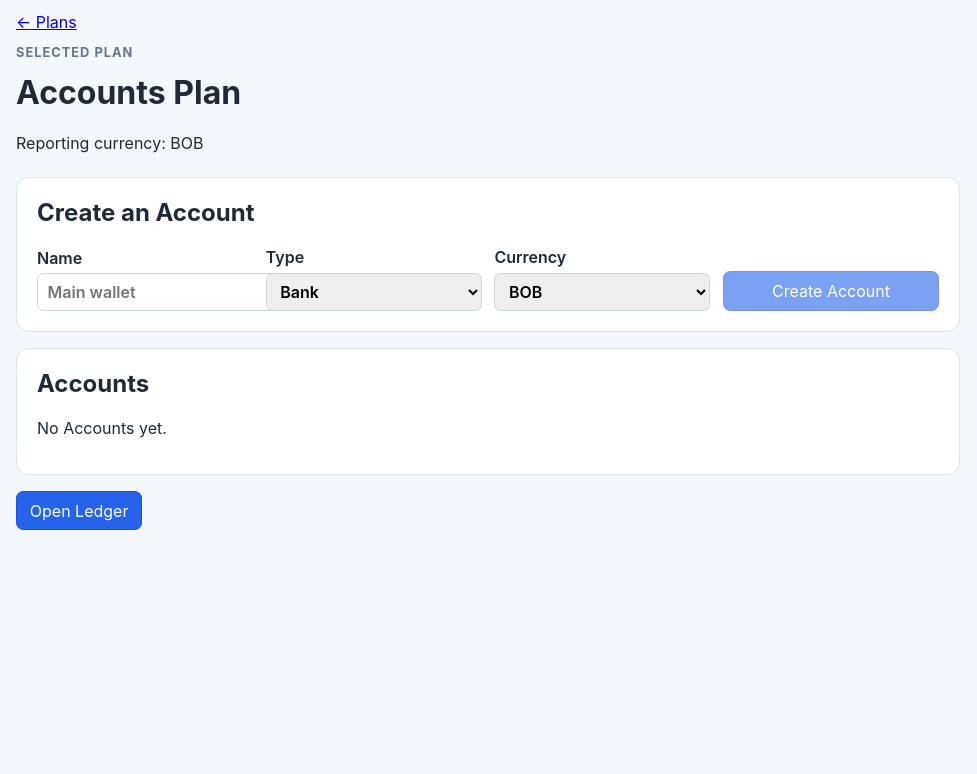
Test: minimal authoritative client flows › creates, renames, archives, and refetches Accounts with exact balances
Expected: the heading "Accounts" is shown, left=37, top=369, right=149, bottom=398
Step 1. Type "USDT wallet" into the field labelled "Name" → (174, 292), box left=37, top=273, right=311, bottom=311
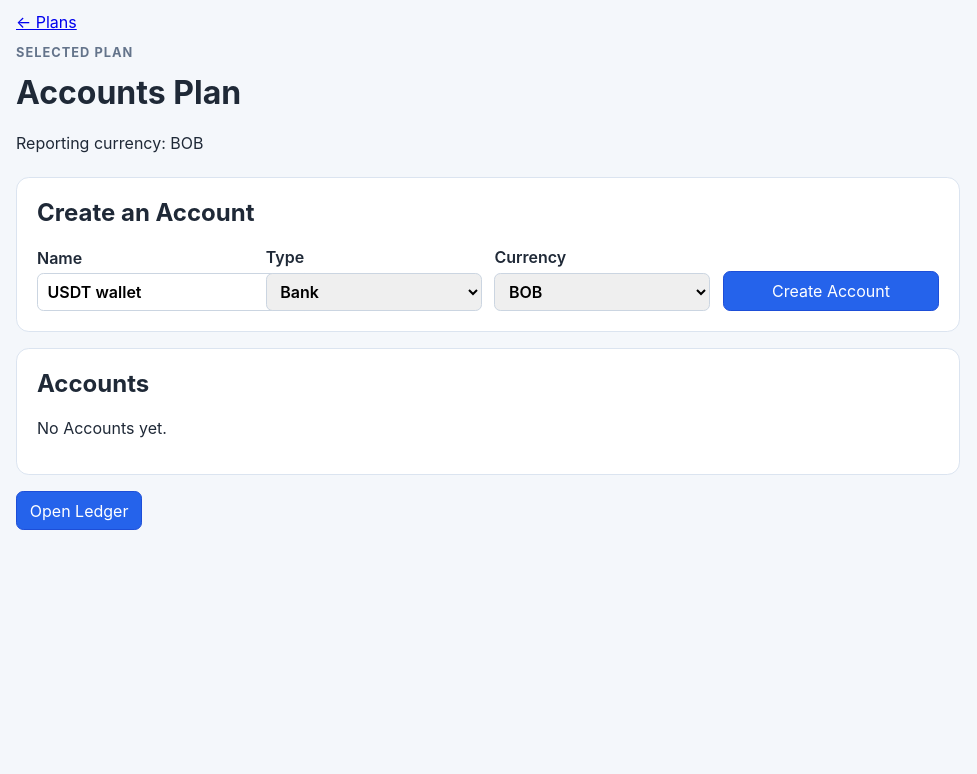
Step 2. Select "Crypto" in the dropdown labelled "Type" → (374, 292), box left=266, top=272, right=482, bottom=311
Step 3. Select "USDT" in the dropdown labelled "Currency" → (602, 292), box left=494, top=272, right=710, bottom=311
Step 4. Click the button "Create Account" → (831, 291), box left=723, top=271, right=939, bottom=311
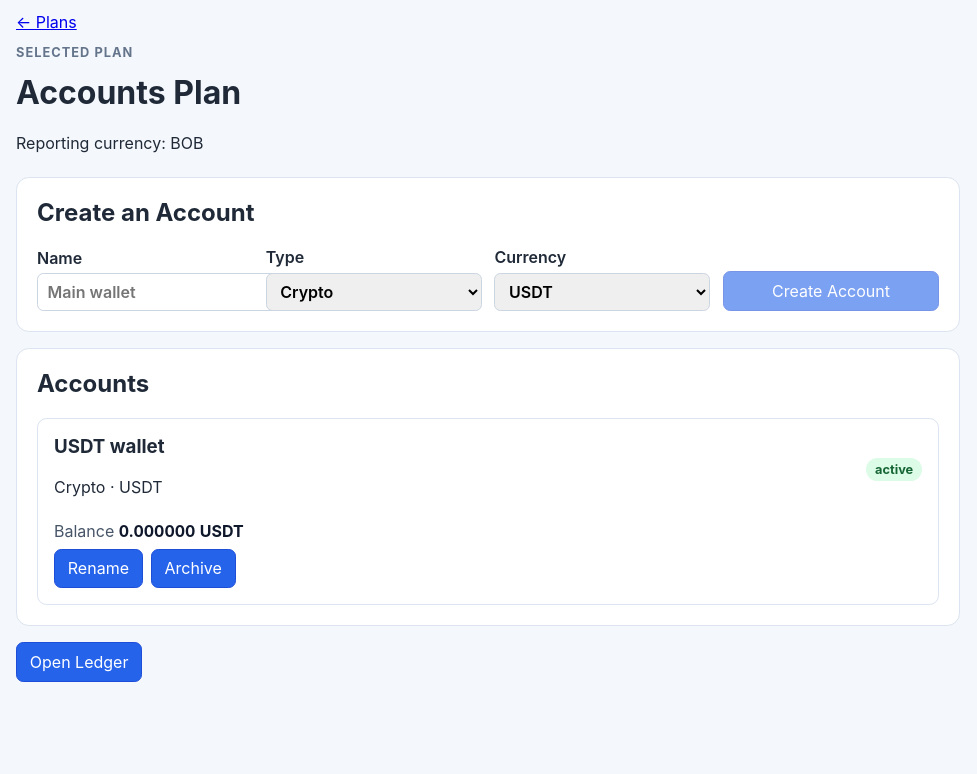
Result: the heading "USDT wallet" is shown at left=54, top=435, right=165, bottom=458
Result: the text "0.000000 USDT" is shown at left=119, top=520, right=244, bottom=540
Step 5. Click the button "Rename" → (98, 568), box left=54, top=548, right=143, bottom=588
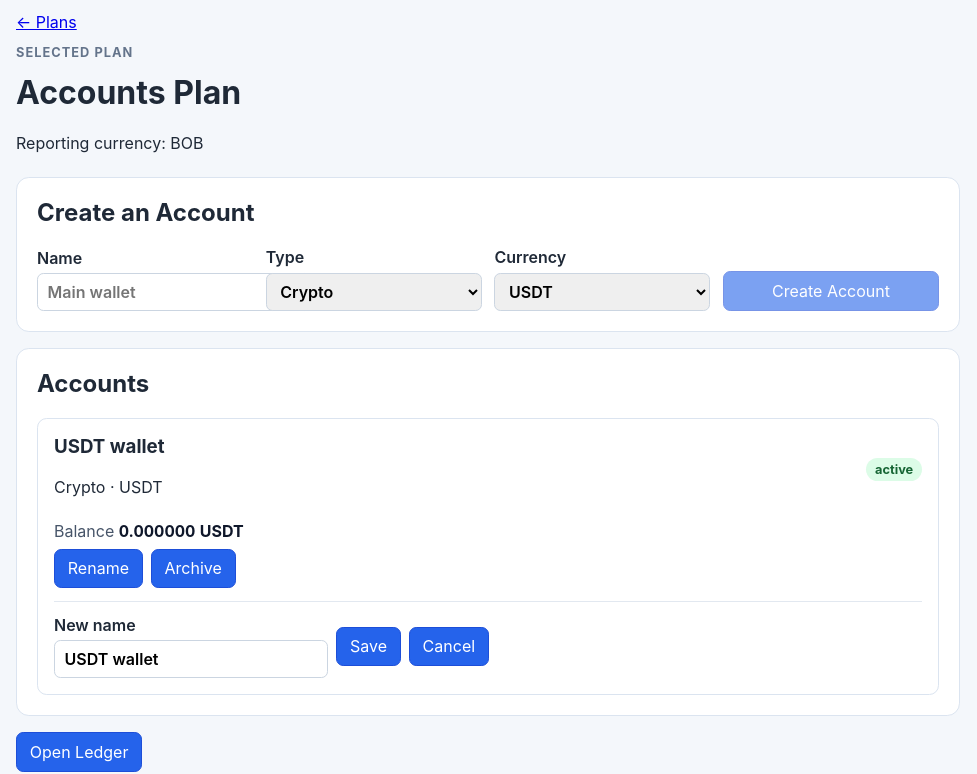
Step 6. Replace the text in the field labelled "New name" with "Renamed wallet" → (191, 659), box left=54, top=640, right=328, bottom=678
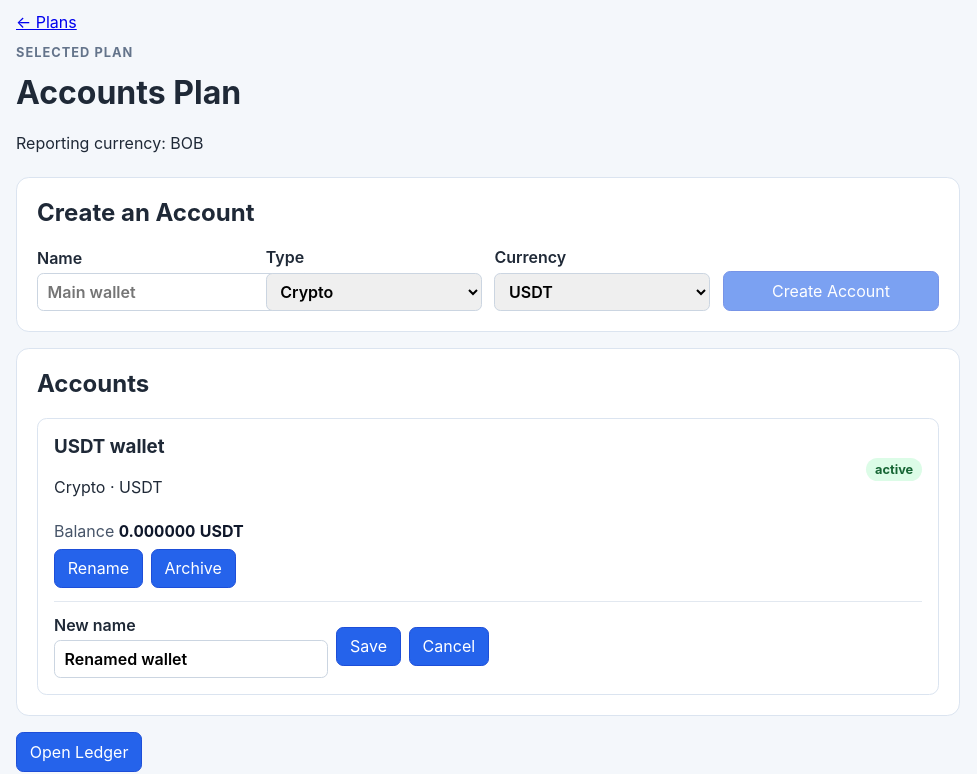
Step 7. Click the button "Save" → (368, 646), box left=336, top=626, right=401, bottom=666
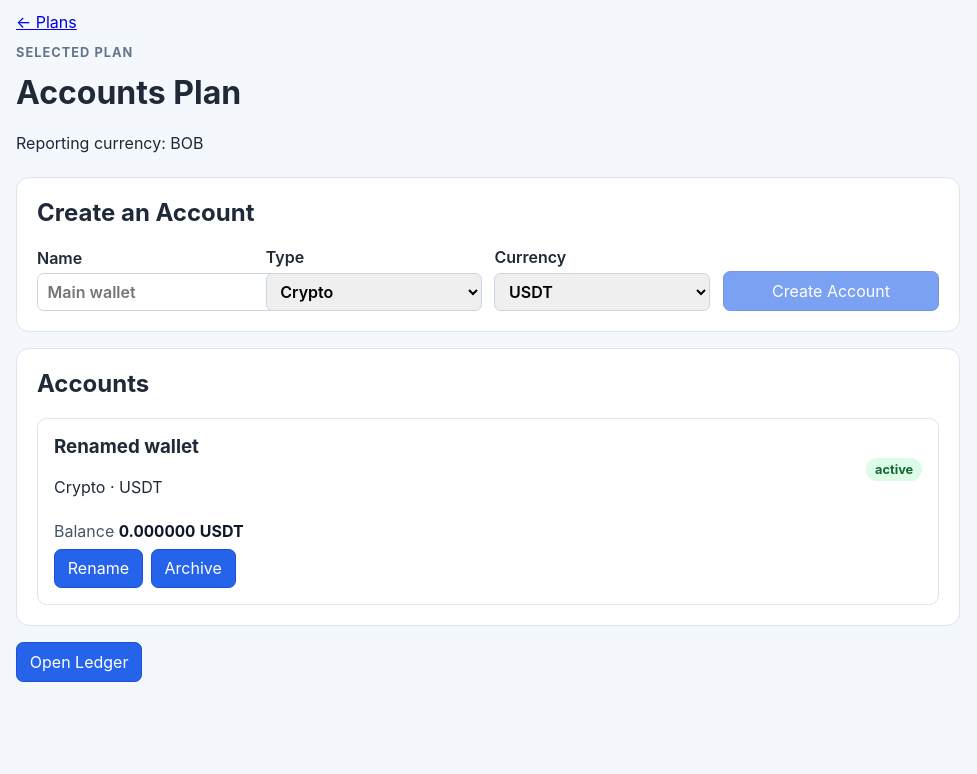
Result: the heading "Renamed wallet" is shown at left=54, top=435, right=199, bottom=458
Step 8. Click the button "Archive" → (193, 568), box left=151, top=548, right=236, bottom=588
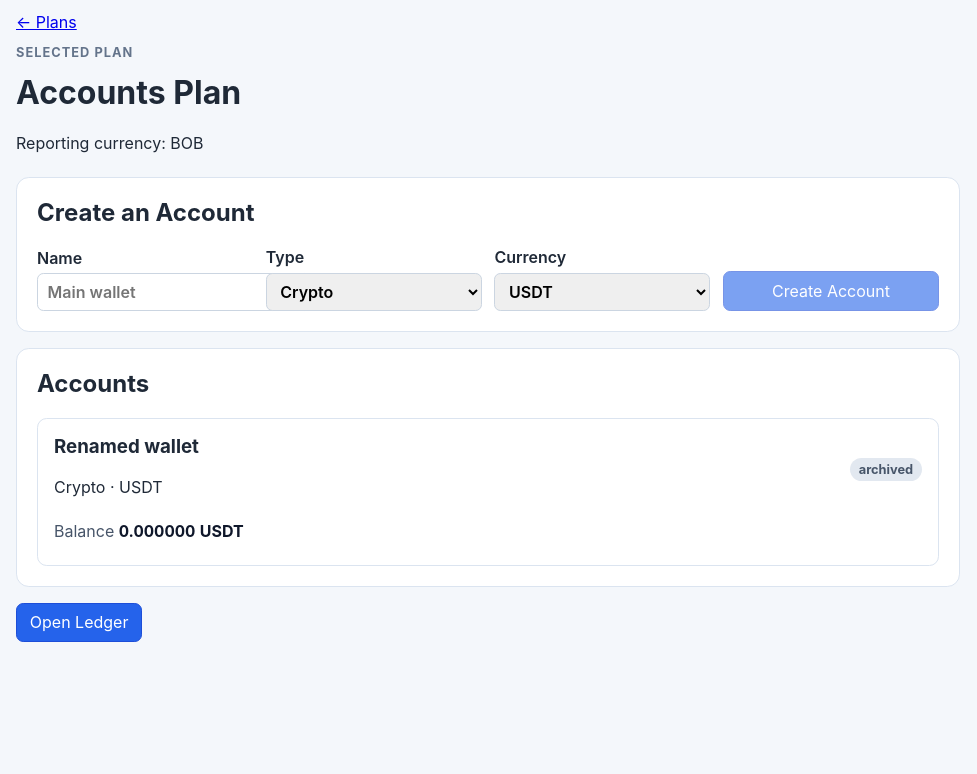
Result: the text "archived" is shown at left=850, top=458, right=922, bottom=481
